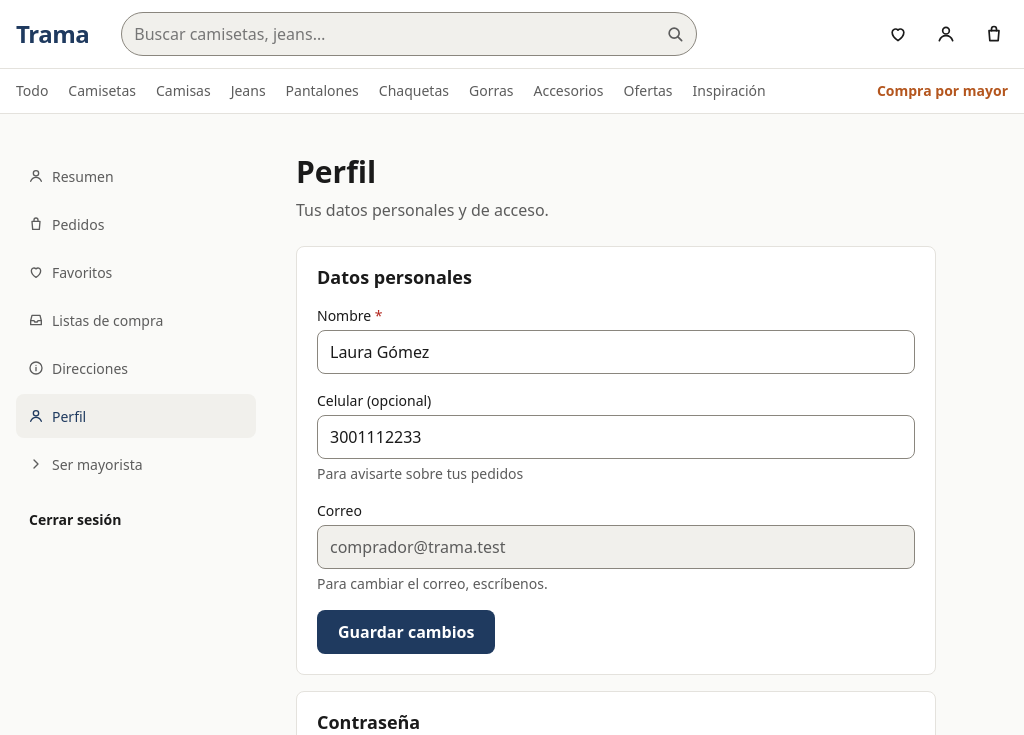
Cuenta del comprador › perfil: valida y guarda los datos
The image size is (1024, 735).
Replace the text in the field labelled "Celular (opcional)" with "123" at {"x": 616, "y": 437}, box [317,415,915,459]
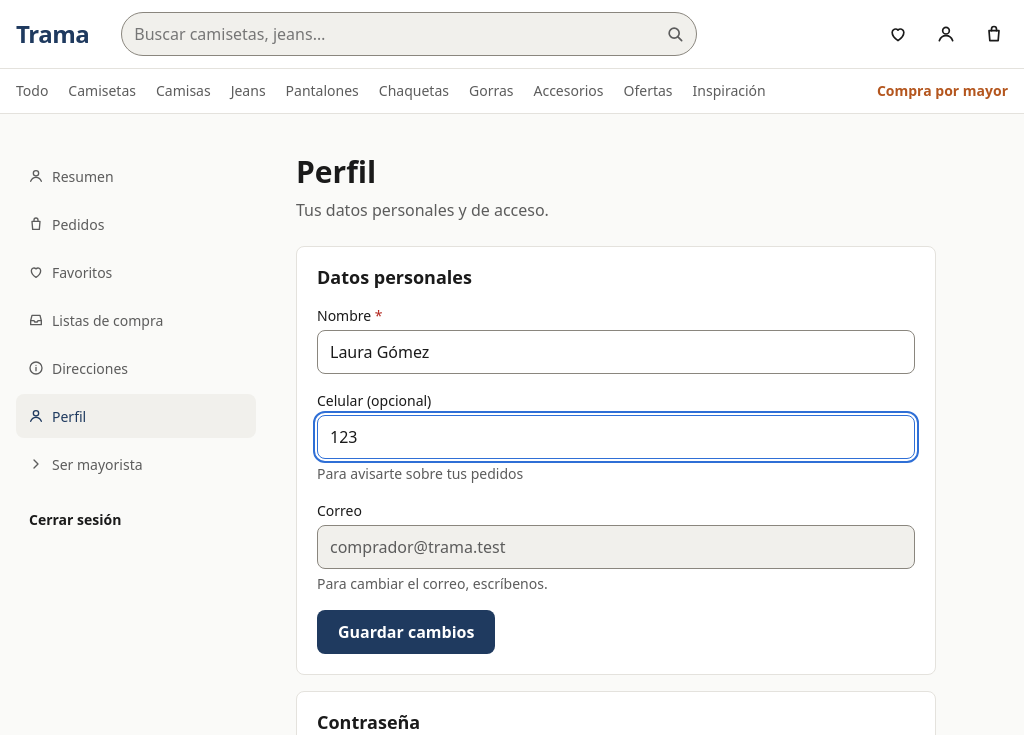
Click the button "Guardar cambios" at {"x": 406, "y": 632}, box [317,610,495,654]
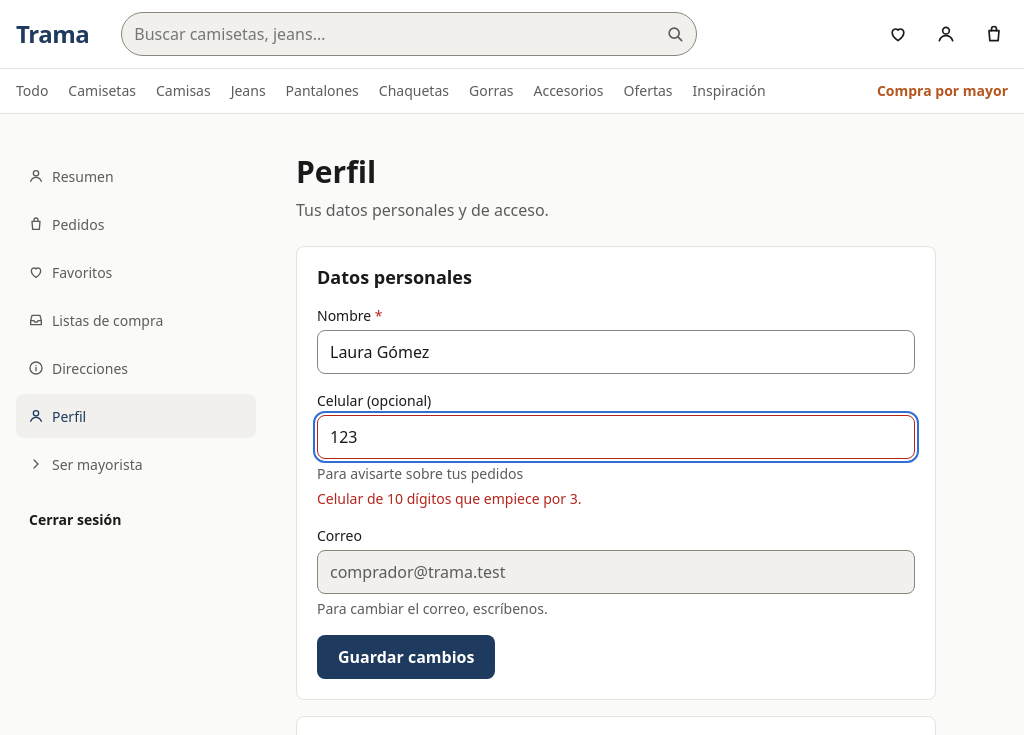
Expected: the text "Celular de 10 dígitos que empiece por 3." is shown, [317,489,581,508]
Replace the text in the field labelled "Celular (opcional)" with "3109998877" at {"x": 616, "y": 437}, box [317,415,915,459]
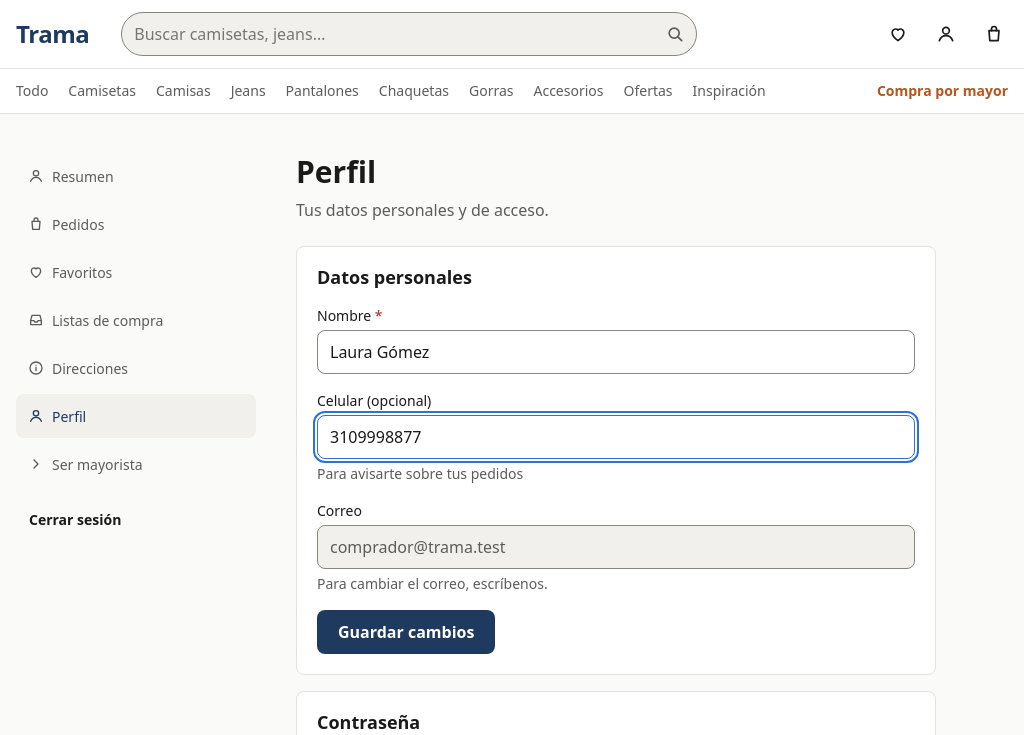
Replace the text in the field labelled "Nombre *" with "Laura María Gómez" at {"x": 616, "y": 352}, box [317,330,915,374]
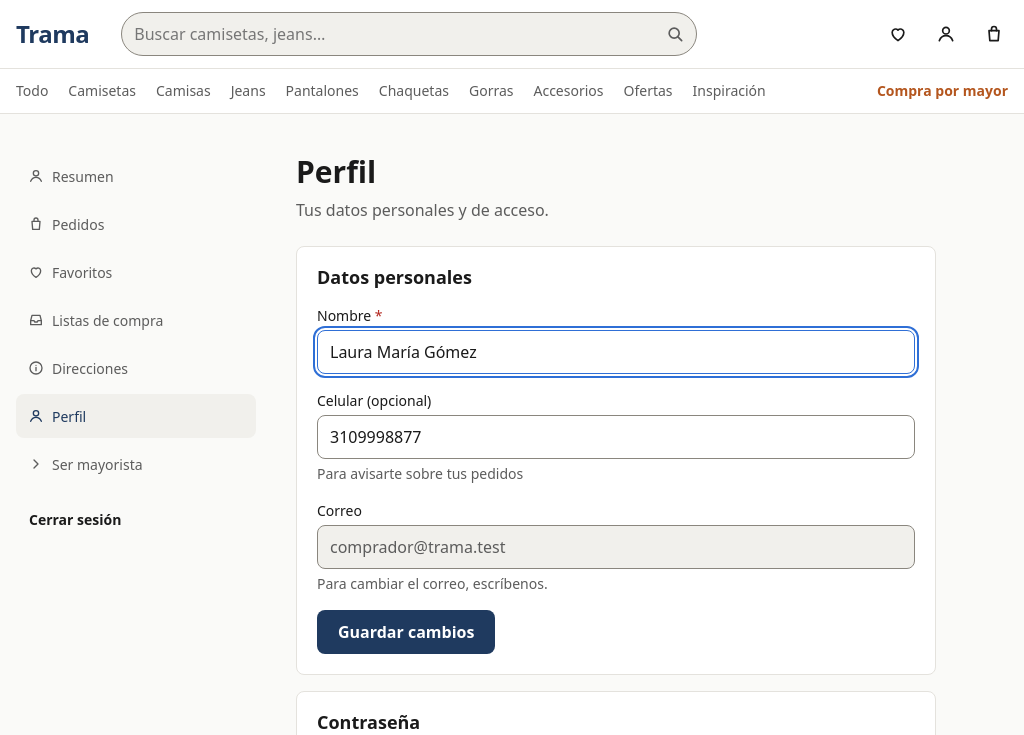
Click the button "Guardar cambios" at {"x": 406, "y": 632}, box [317,610,495,654]
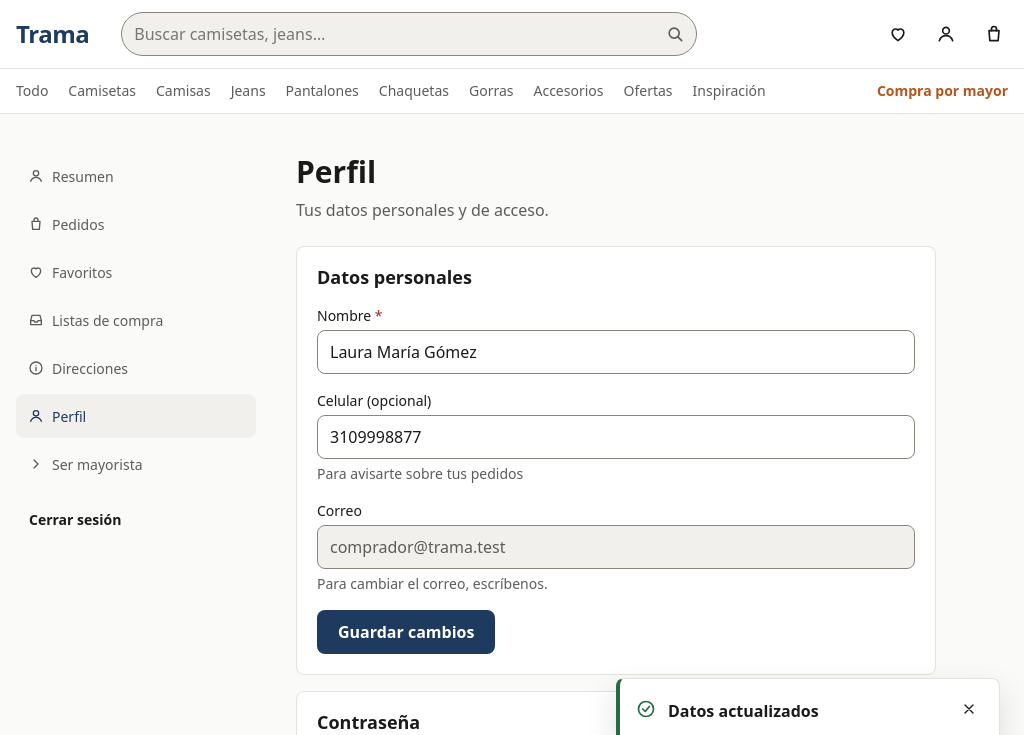
Expected: the text "Datos actualizados" is shown, [668,700,819,722]
